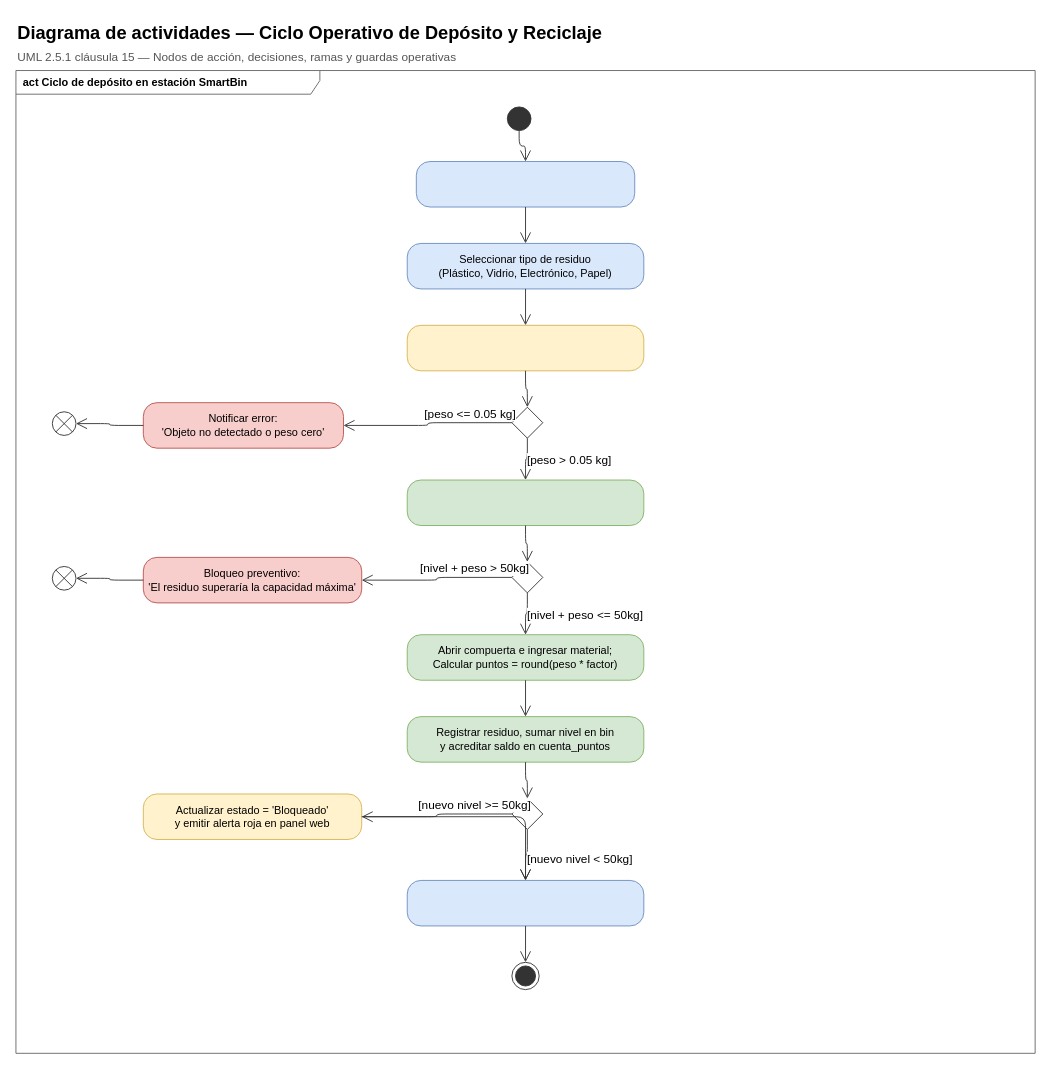
This 1051x1069 diagram has some shape labels left out. Each missing label, with the centre of its shape:
Ciudadano abre app y escanea código QR de la estación: point 525,184
Colocar residuo en la compuerta; Sensor HX711 mide el peso: point 525,347
Consultar nivel actual y capacidad máxima del SmartBin (50.0 kg): point 525,502
Emitir comprobante y actualizar saldo en smartphone: point 525,903
